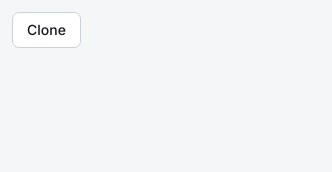
Test: CloneAssessmentButton › shows an error when cloning fails
This screenshot has width=332, height=172.
Click the button "Clone" at (46, 30), box x1=12 y1=12 x2=81 y2=48
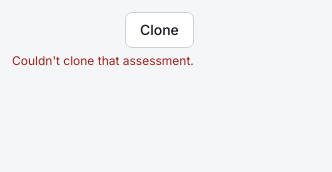
Expected: the text "Couldn't clone that assessment." is shown, x1=12 y1=52 x2=194 y2=69
